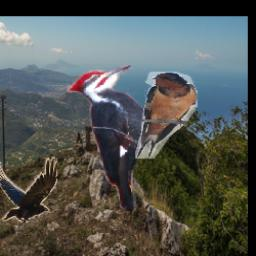Crow: (0, 158, 57, 224)
Swallow: (136, 73, 199, 160)
Woodpecker: (68, 64, 159, 211)
